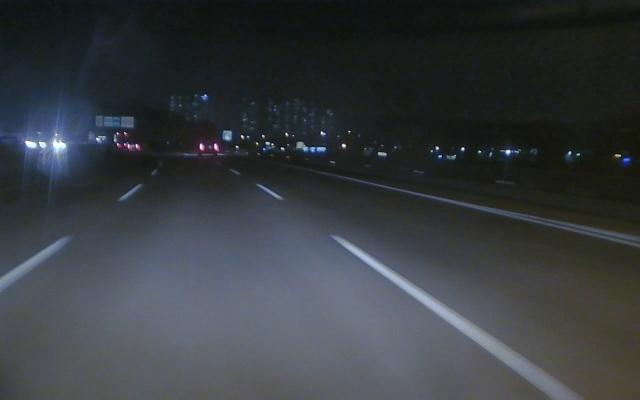lane: (256, 182, 584, 399), (340, 175, 640, 249), (1, 185, 141, 291)
